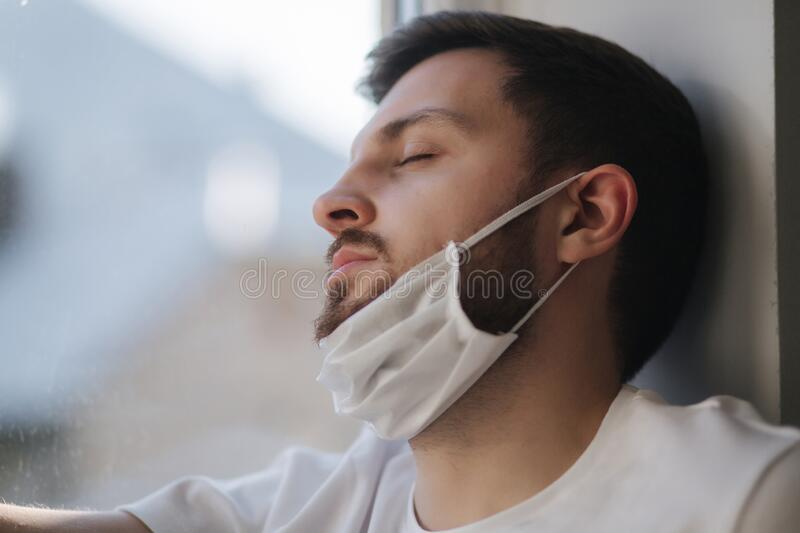Wore Mask Incorrectly: (306, 32, 648, 448)
